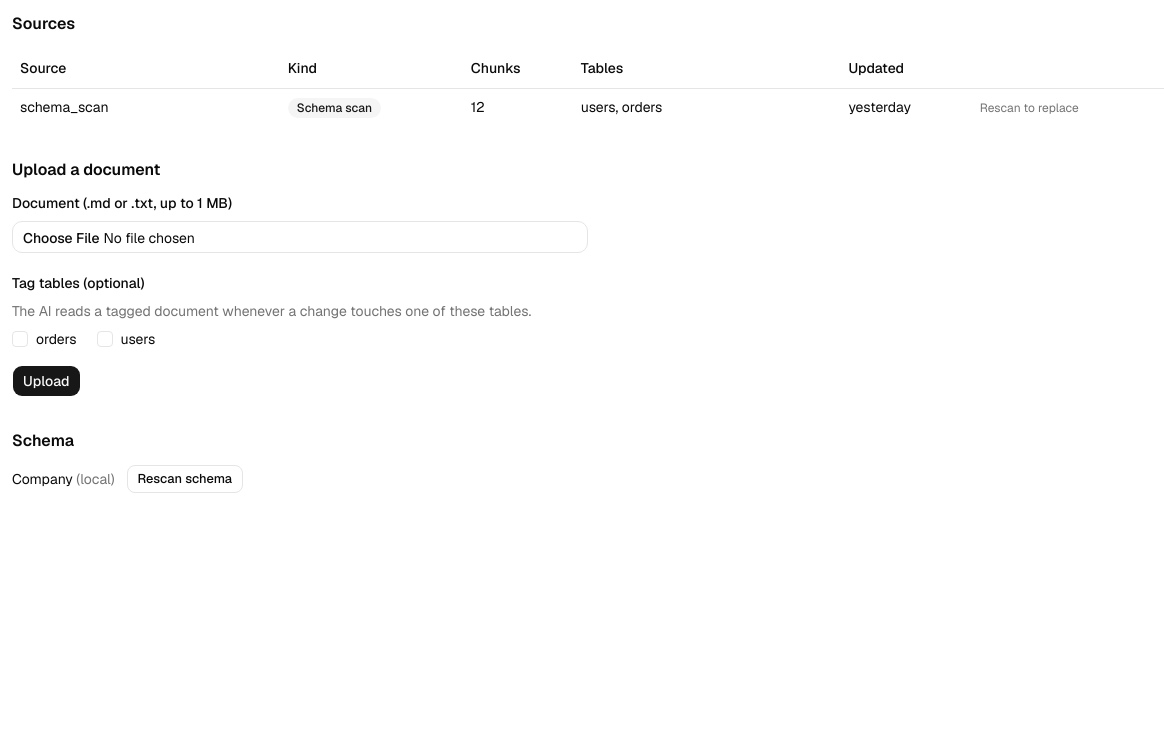
uploading › refuses when no file is chosen
The width and height of the screenshot is (1164, 732).
Expected: the table is shown, [12,48,1163,126]
What coordinates should you click on to do the following:
click the button "Upload"
I would click on:
 (46, 381)
Its box is [12,365,81,397].
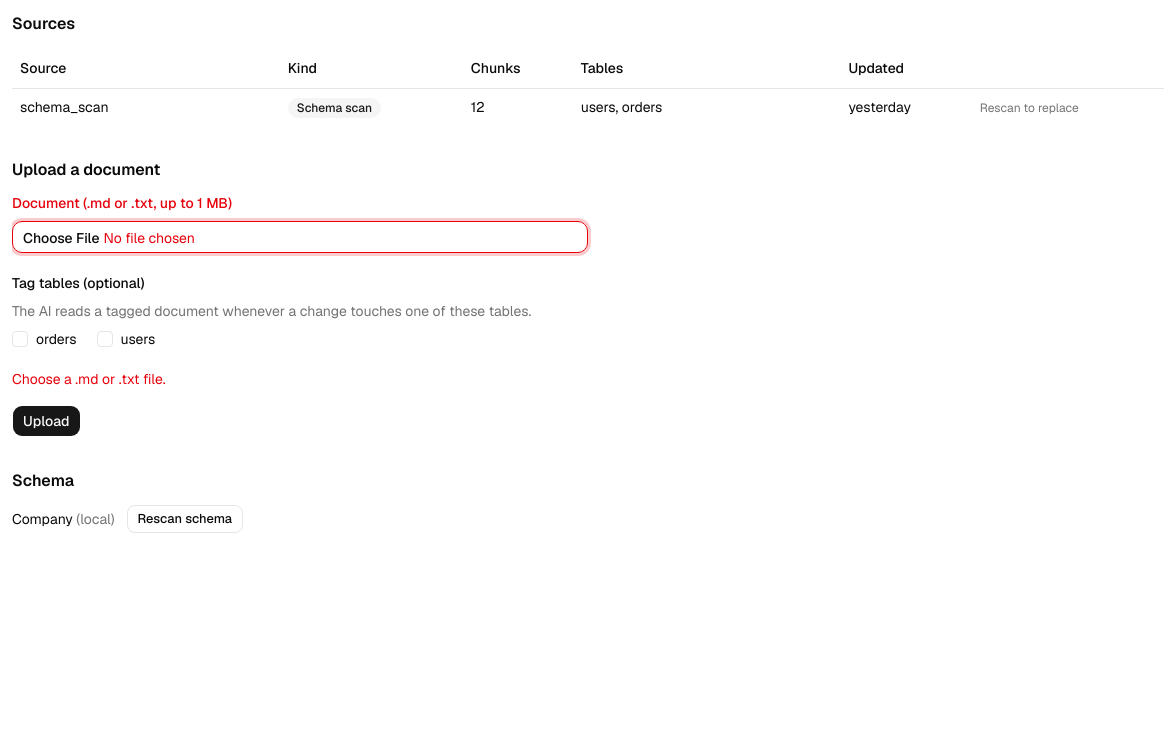
Now the text "Choose a .md or .txt file." is shown, box [12,370,166,388]
